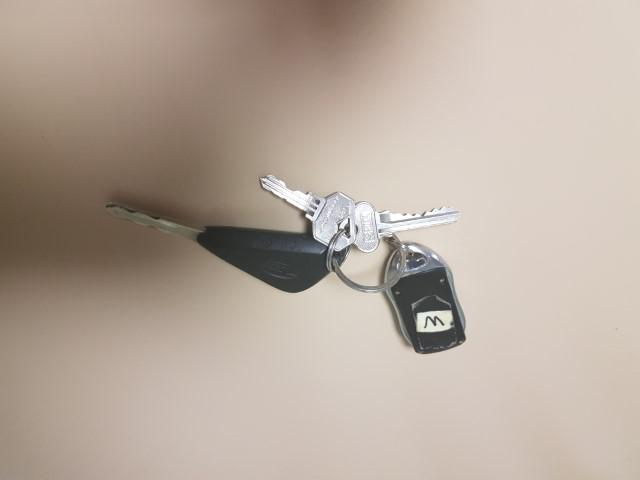key: (90, 193, 346, 300)
